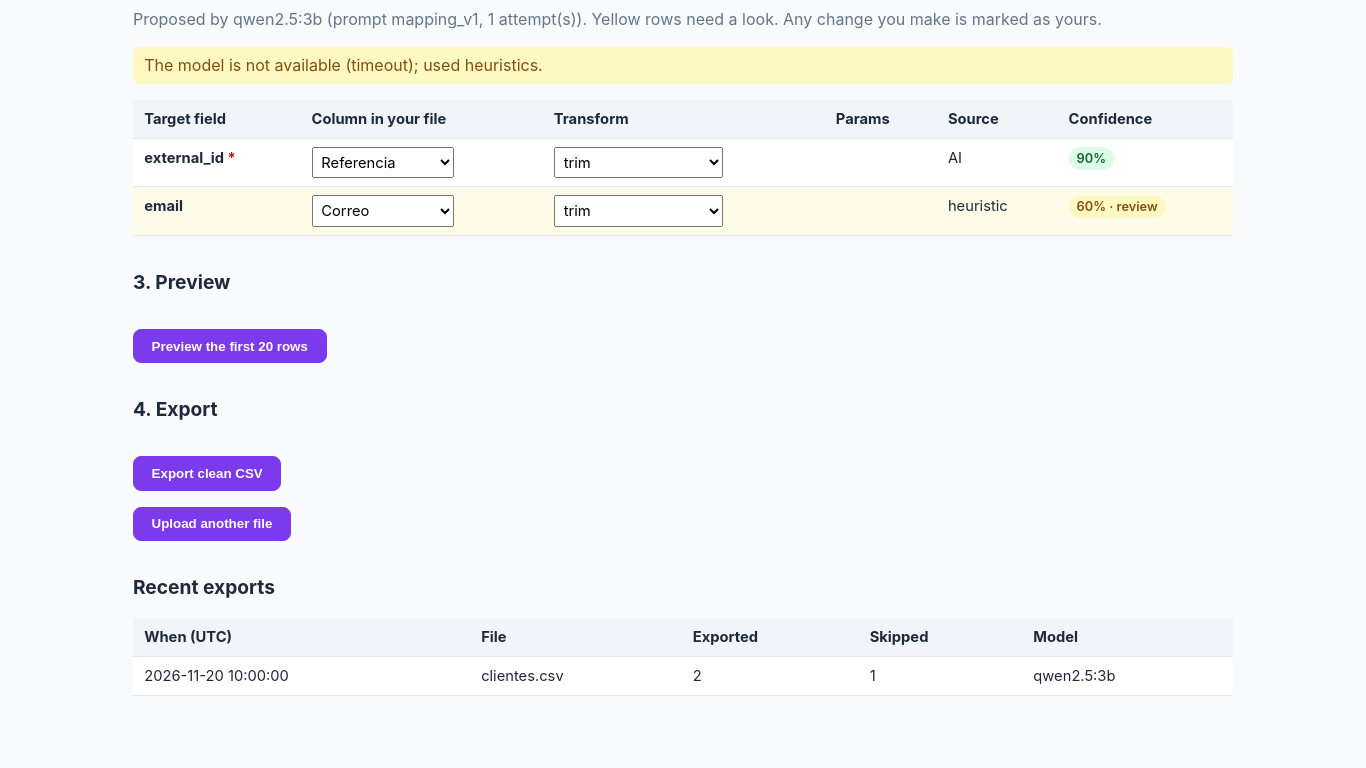
it: App › goes from upload to the column profile and back
Earlier steps of the test are not shown.
(page scrolled)
Expected: the heading "Recent exports" is shown, [133,575,275,599]
Click the button "Upload another file": [212, 524] box [133,507,291,541]
(page scrolled)
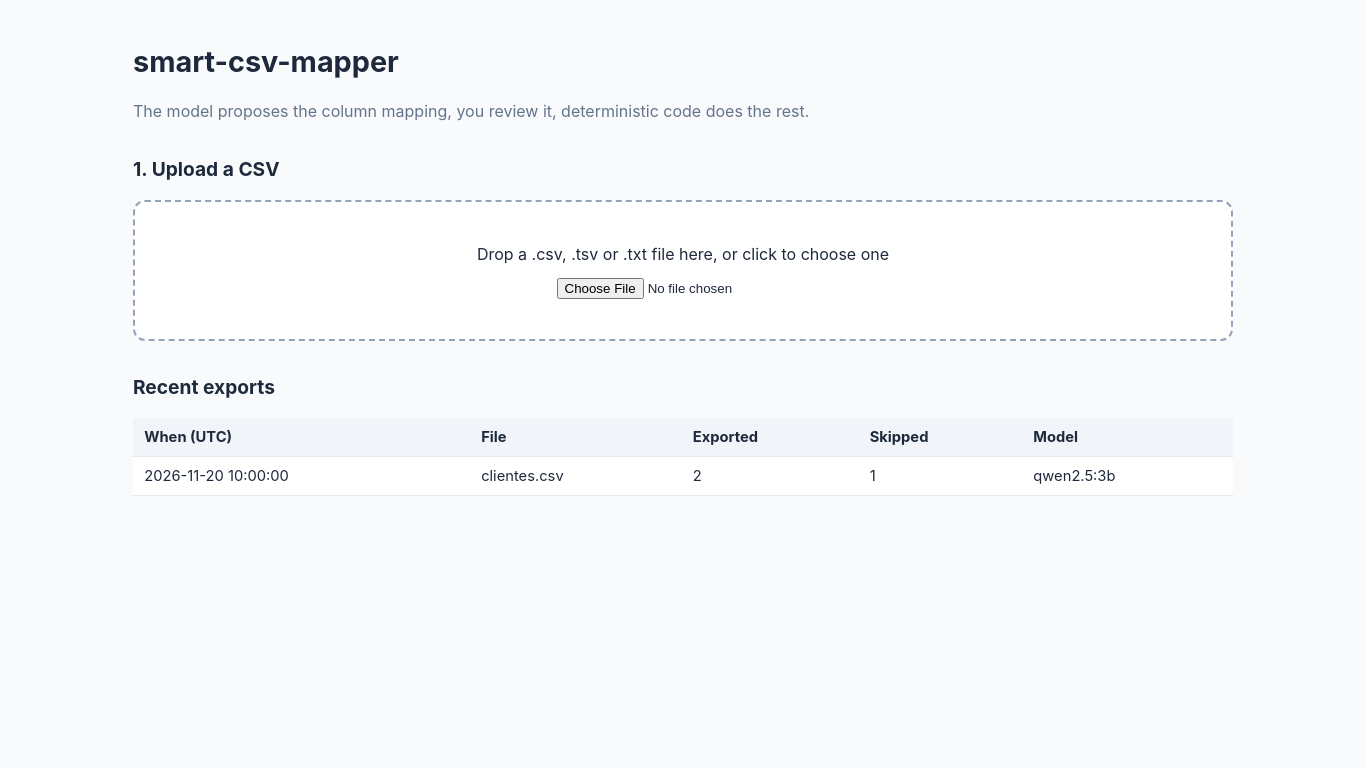
Result: the heading "1. Upload a CSV" is shown at [133,157,280,181]
